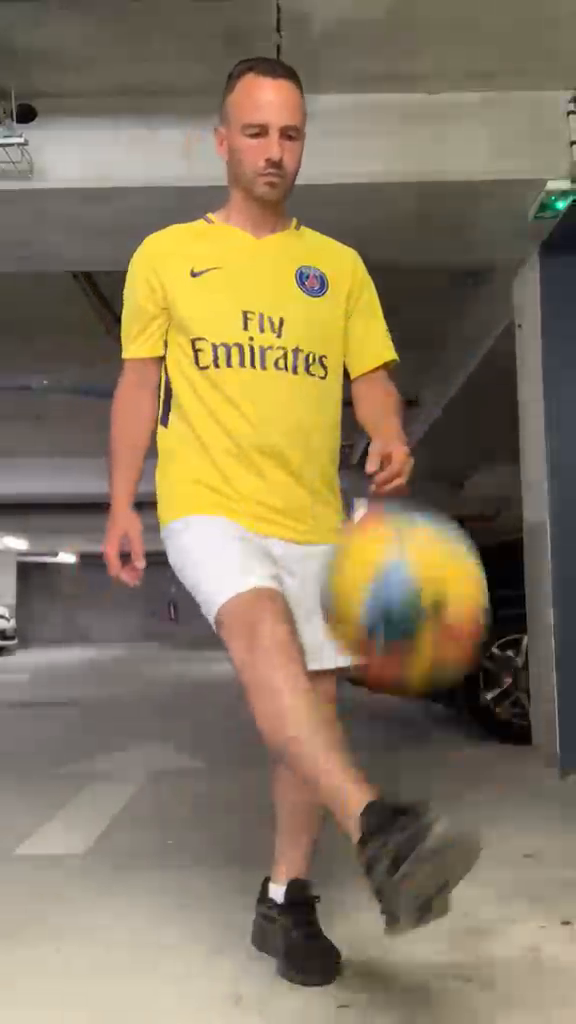ball: (308, 500, 505, 697)
